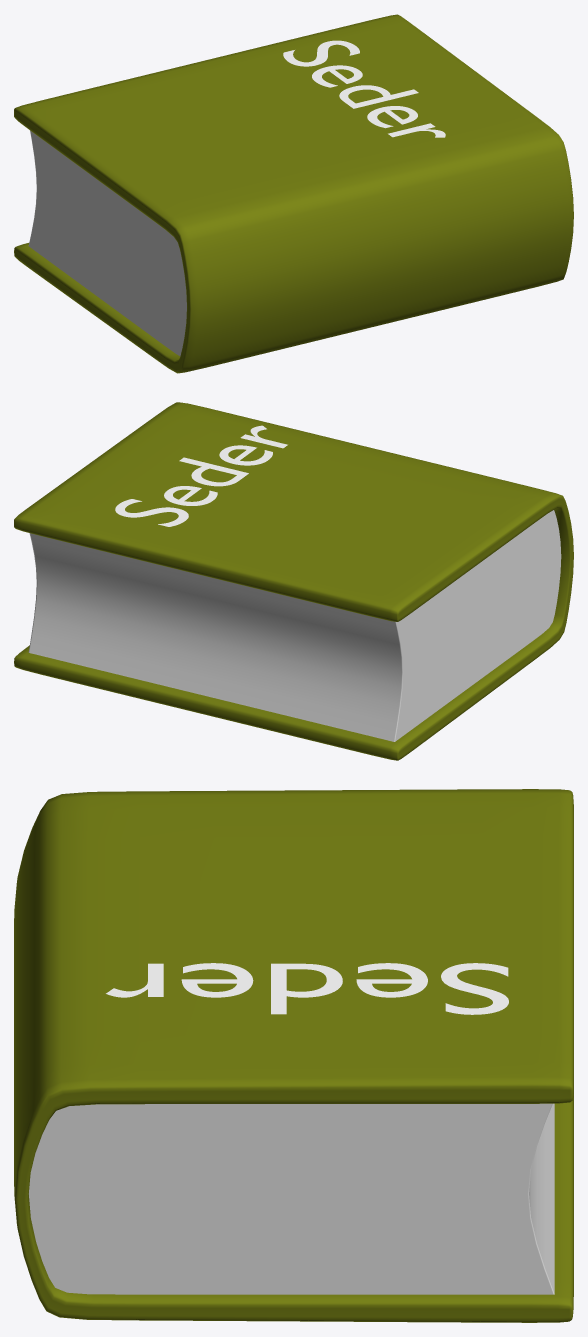
Rendered from LibroAMARILLO.fbx.
3 views of the same model, one above another, from view 1: azimuth 30°, elevation 25°; view 2: azimuth 150°, elevation 25°; view 3: azimuth 270°, elevation 25° (orthographic). The views are drawn at different scales.
Parts seen in each view (by area): view 1: Libro.001; view 2: Libro.001; view 3: Libro.001.
Part boxes in pixels (x1=…): Libro.001: x1=14, y1=14, x2=573, y2=373; Libro.001: x1=14, y1=402, x2=573, y2=760; Libro.001: x1=14, y1=789, x2=573, y2=1322.
Size of the model in its own units: 50 by 20 by 40.
